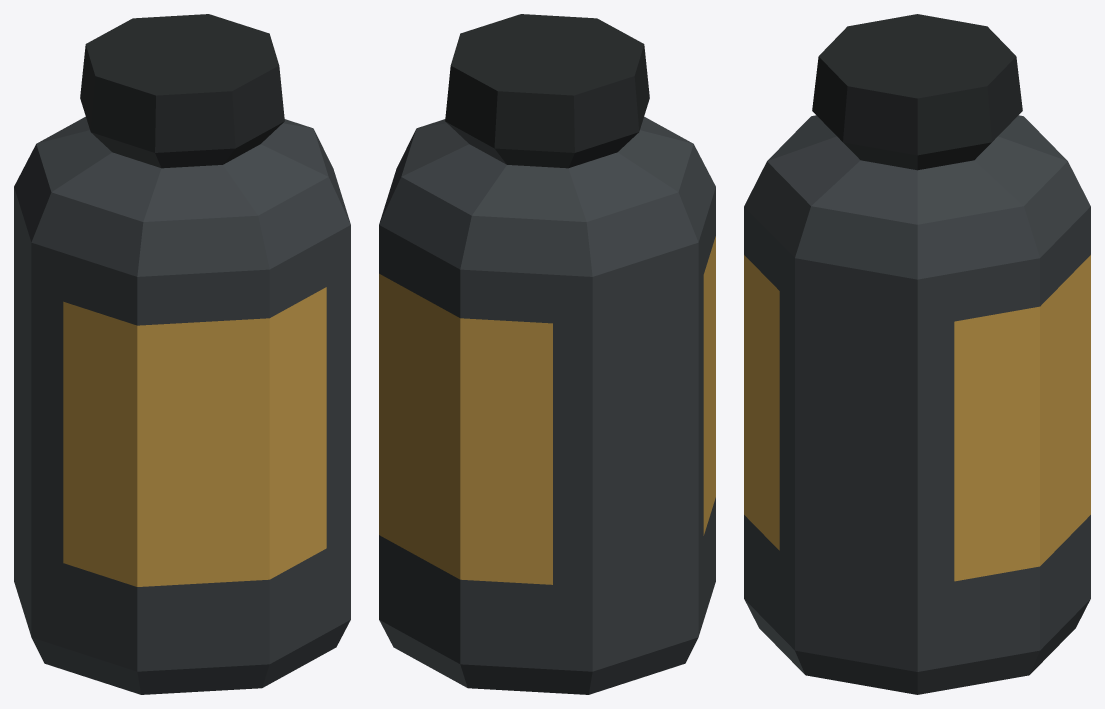
Rendered from SM_Prop_Bottle_Small_02.obj.
3 views of the same model, side by side, from view 1: azimuth 30°, elevation 25°; view 2: azimuth 150°, elevation 25°; view 3: azimuth 270°, elevation 25° (orthographic).
Visible parts, largest first — view 1: SM_Prop_Bottle_Small_02_0; view 2: SM_Prop_Bottle_Small_02_0; view 3: SM_Prop_Bottle_Small_02_0.
Part boxes in pixels (x1,y1,x2,y2): SM_Prop_Bottle_Small_02_0: [14, 14, 350, 694]; SM_Prop_Bottle_Small_02_0: [379, 14, 715, 694]; SM_Prop_Bottle_Small_02_0: [744, 14, 1090, 694].
Size of the model in its own units: 0.0721 by 0.1312 by 0.0721.
Materials: 1 (1 with a texture image).
